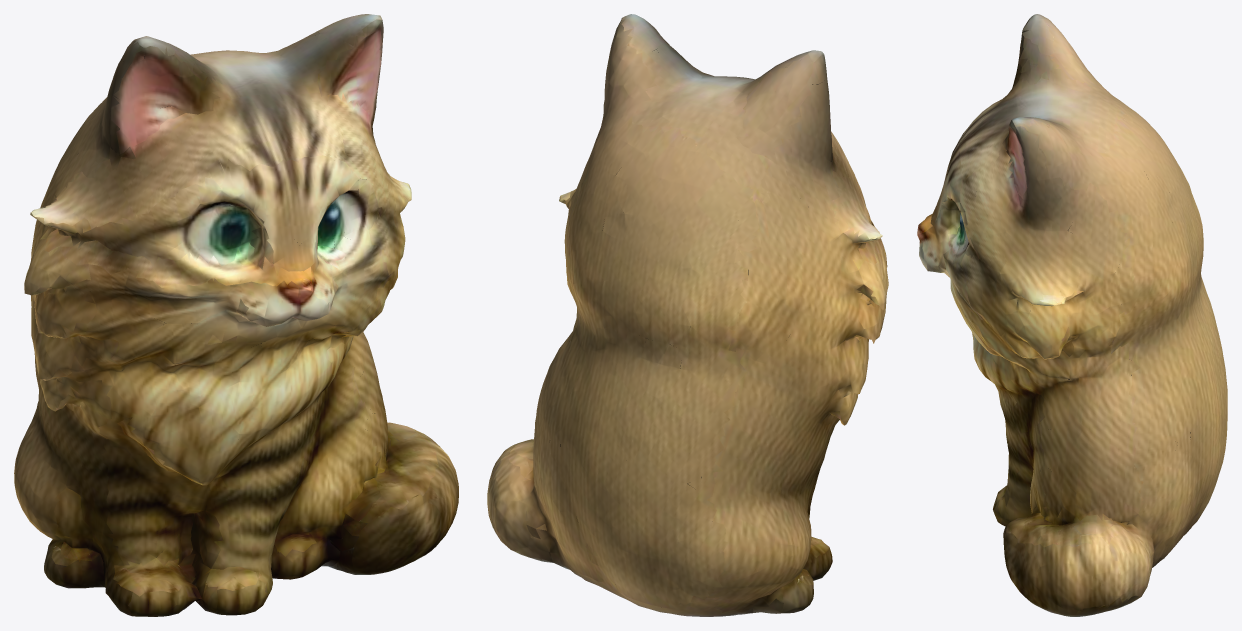
Rendered from cat2.glb.
3 views of the same model, side by side, from view 1: azimuth 30°, elevation 25°; view 2: azimuth 150°, elevation 25°; view 3: azimuth 270°, elevation 25° (orthographic). The views are drawn at different scales.
Parts seen in each view (by area): view 1: world.001; view 2: world.001; view 3: world.001.
Part boxes in pixels (bbox=[...]): world.001: bbox=[14, 14, 458, 616]; world.001: bbox=[487, 14, 888, 616]; world.001: bbox=[917, 14, 1227, 616].
Bounding box in the file's own units: 0.7676 × 0.998 × 0.5856.
1 material, 1 textured.
